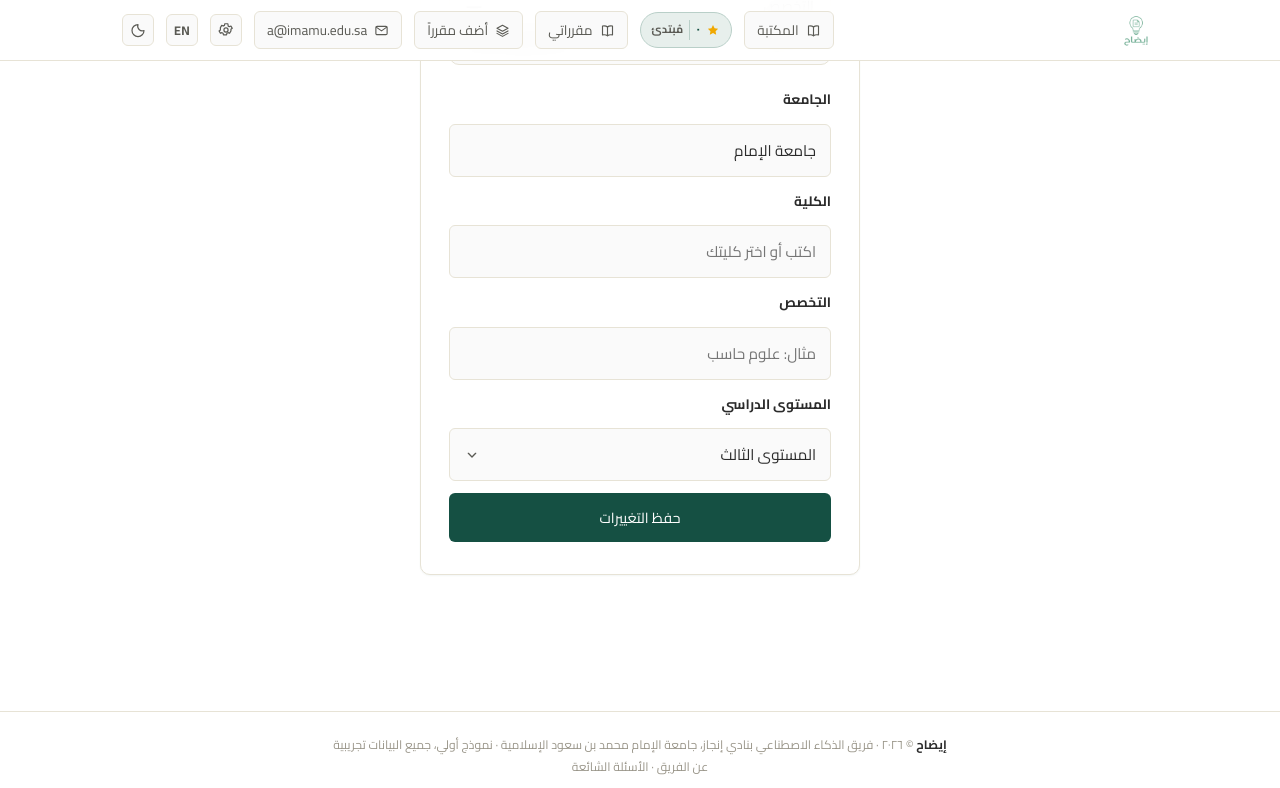
it: خطأ الحفظ يظهر للمستخدم
(page scrolled)
Click the button "حفظ التغييرات".
click(640, 518)  # box [449,493,831,542]
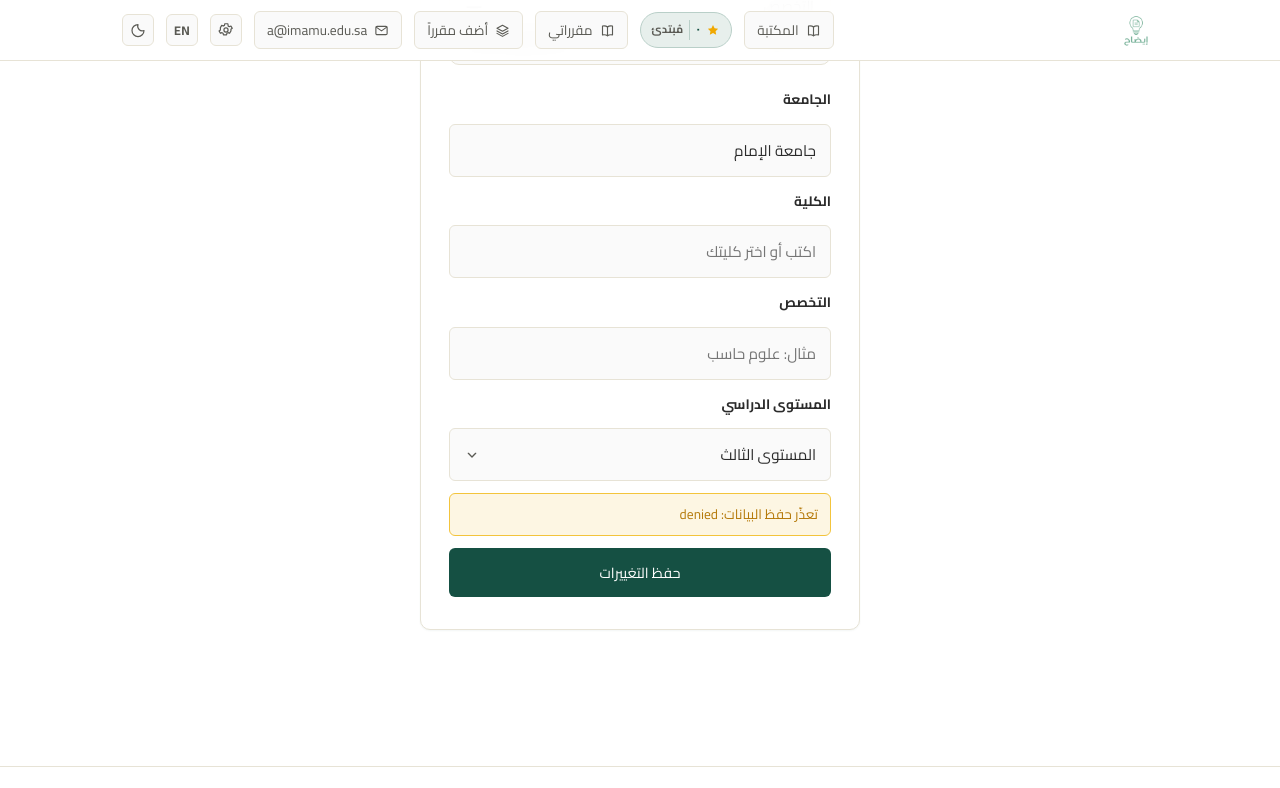
Now the message shows "تعذّر حفظ البيانات", box [680,501,818,527]
